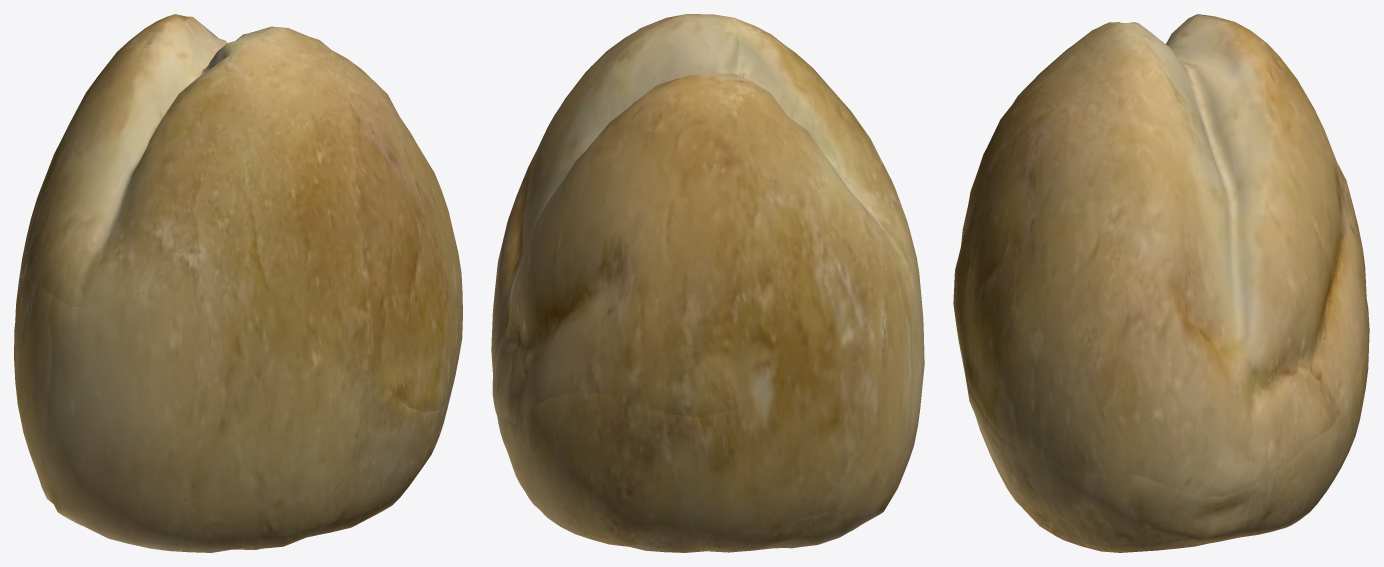
File: roll_c.glb
3 renders of one model, left to right at view 1: azimuth 30°, elevation 25°; view 2: azimuth 150°, elevation 25°; view 3: azimuth 270°, elevation 25°, orthographic.
Visible parts, largest first — view 1: hamburger_buns_03.001; view 2: hamburger_buns_03.001; view 3: hamburger_buns_03.001.
Boxes of the visible parts, left/top/right/bottom form: hamburger_buns_03.001: left=14, top=14, right=462, bottom=552; hamburger_buns_03.001: left=491, top=14, right=924, bottom=552; hamburger_buns_03.001: left=953, top=14, right=1369, bottom=552.
Size of the model in its own units: 2.49 by 2.82 by 2.27.
1 material, 1 textured.
